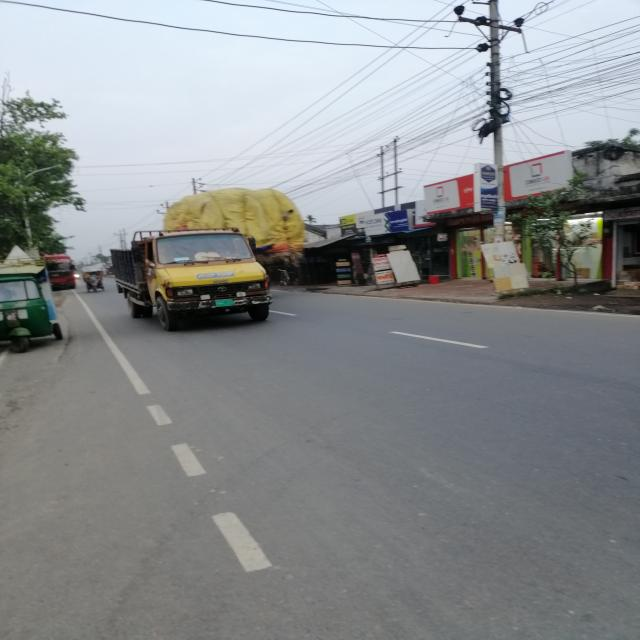Pick-up-van: (106, 216, 287, 346)
